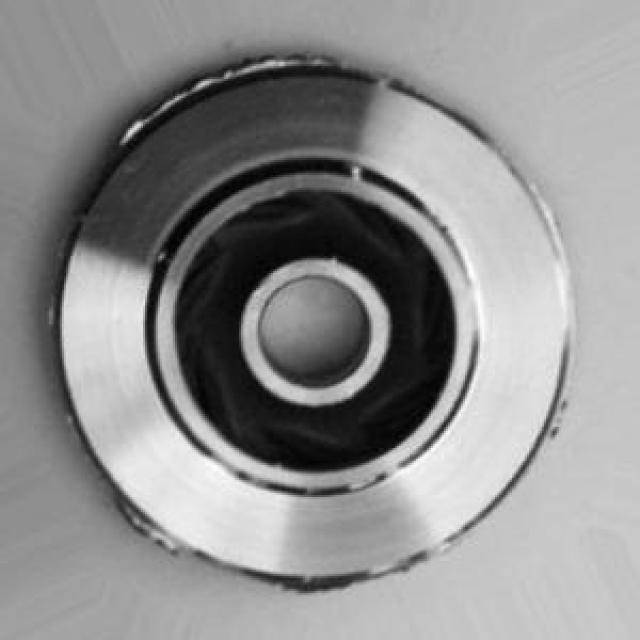Defect: (176, 44, 310, 93)
